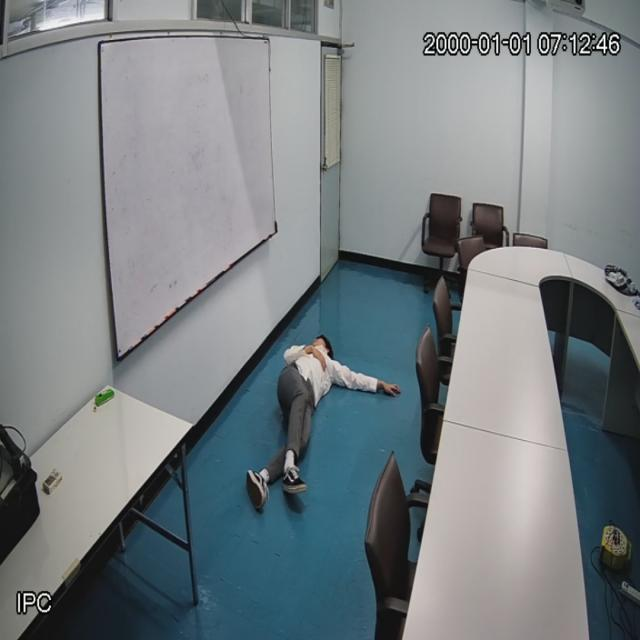fall: (246, 315, 342, 519)
